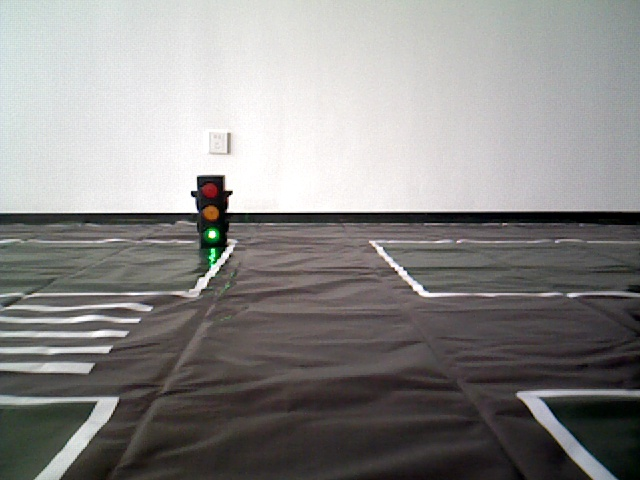green: (198, 180, 226, 247)
